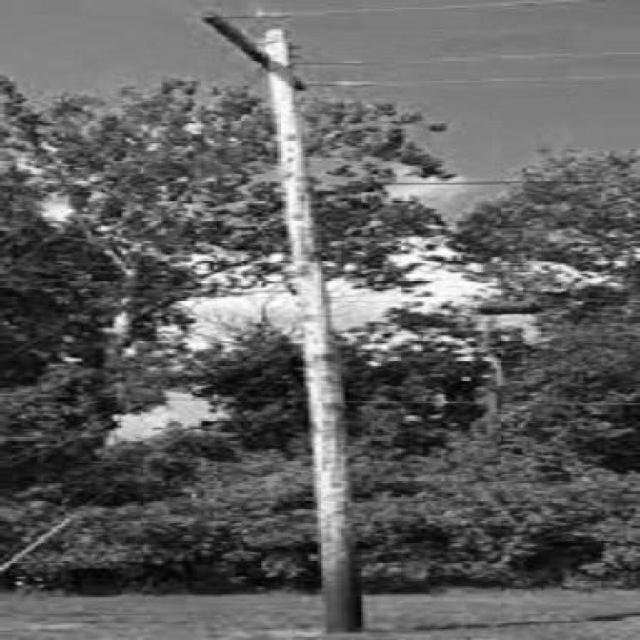Pole: (202, 15, 362, 631)
